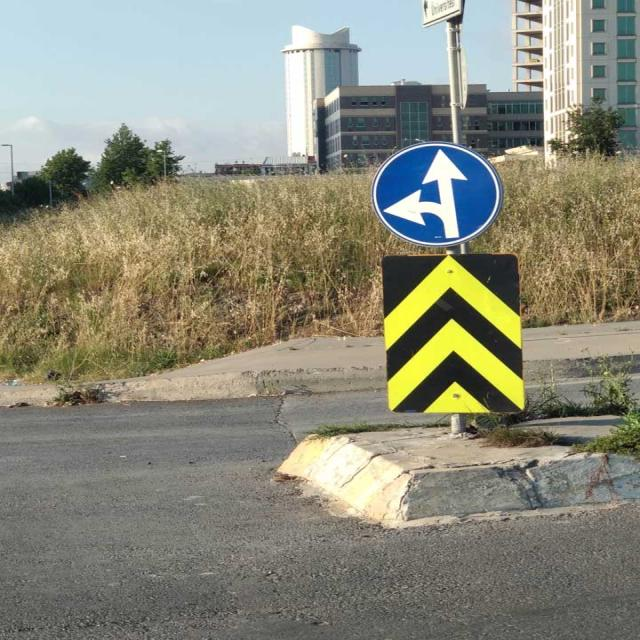ilerisol: (372, 141, 504, 246)
